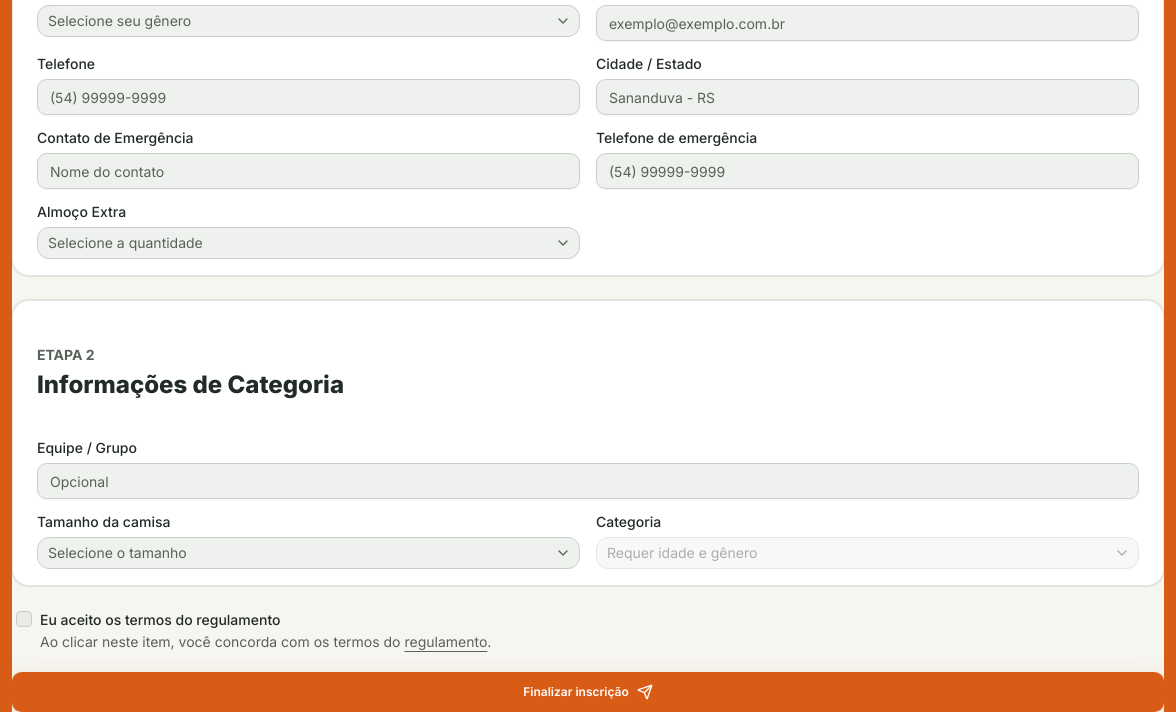
Scenario: RegistrationForm › mensagens de erro › mostra as mensagens de campos obrigatórios ao enviar vazio
This screenshot has width=1176, height=712.
(page scrolled)
Click the button "Finalizar inscrição". click: click(588, 692)
box: x1=12 y1=672 x2=1164 y2=711
(page scrolled)
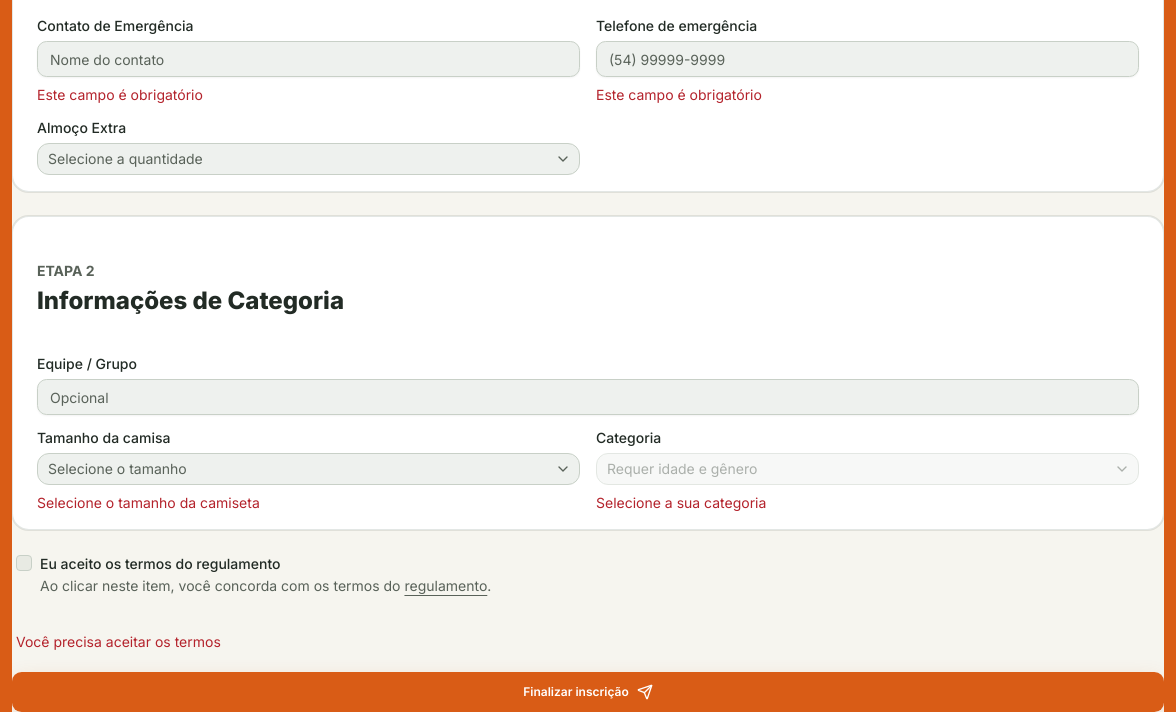
Expected: the text "Selecione a sua categoria" is shown, x1=596 y1=494 x2=766 y2=511
Expected: the text "Selecione o tamanho da camiseta" is shown, x1=37 y1=494 x2=260 y2=511
